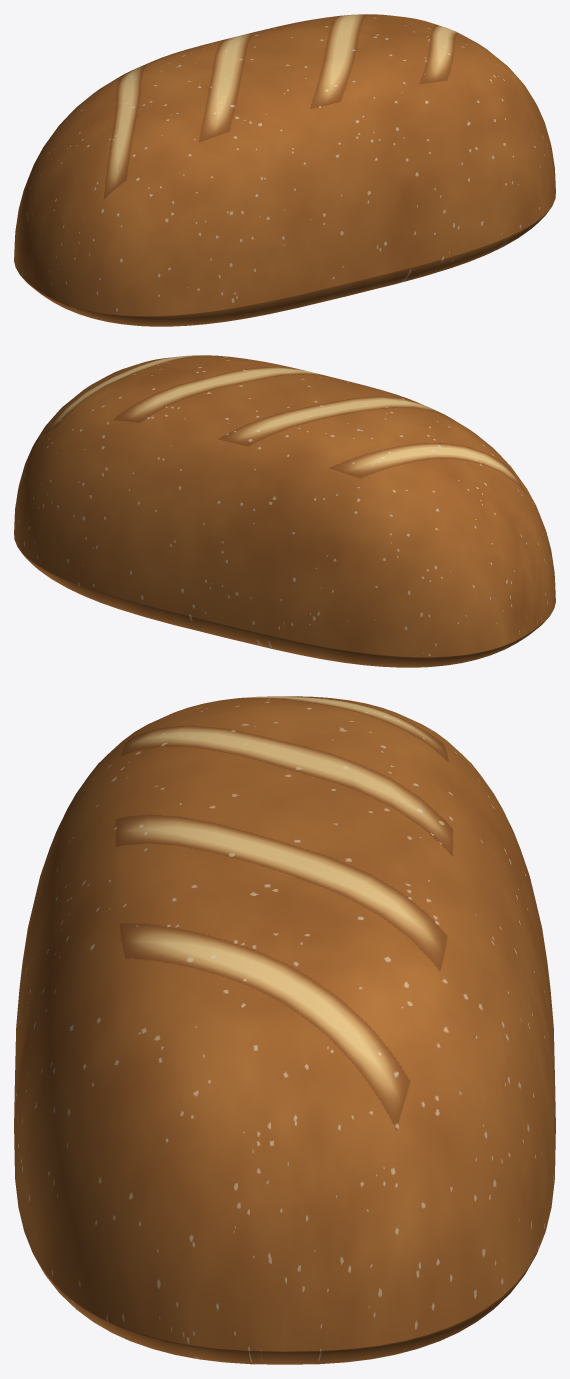
3 renders of one model, top to bottom at view 1: azimuth 30°, elevation 25°; view 2: azimuth 150°, elevation 25°; view 3: azimuth 270°, elevation 25°, orthographic. The views are drawn at different scales.
Visible parts, largest first — view 1: Bread loaf, bloomer; view 2: Bread loaf, bloomer; view 3: Bread loaf, bloomer.
Part boxes in pixels (box(x1,y1,x2,y2)): Bread loaf, bloomer: box(14, 14, 555, 326); Bread loaf, bloomer: box(14, 355, 555, 667); Bread loaf, bloomer: box(14, 696, 555, 1364).
Bounding box in the file's own units: 0.24 × 0.094 × 0.122.
1 material, 1 textured.
